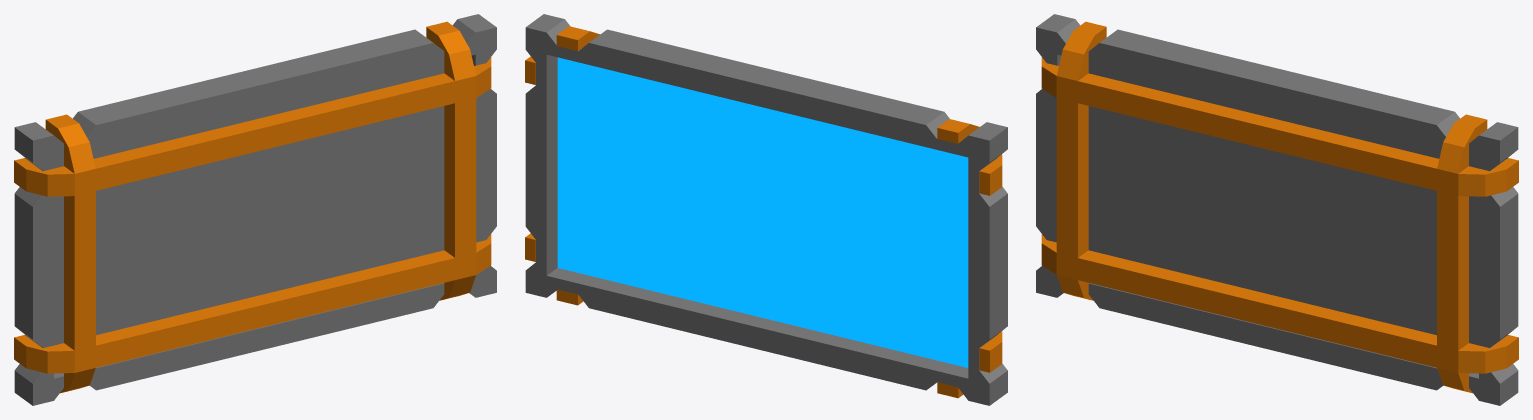
The model's file is menuObjShort.glb.
3 renders of one model, left to right at view 1: azimuth 30°, elevation 25°; view 2: azimuth 150°, elevation 25°; view 3: azimuth 330°, elevation 25°, orthographic.
Parts seen in each view (by area): view 1: Frame, Backplate; view 2: Screen, Frame, Backplate; view 3: Frame, Backplate.
Part boxes in pixels (x1,y1,x2,y2): Frame: [14, 14, 496, 405]; Backplate: [14, 21, 491, 393]; Screen: [557, 57, 968, 367]; Frame: [525, 14, 1007, 405]; Backplate: [525, 26, 1002, 398]; Frame: [1036, 14, 1518, 405]; Backplate: [1041, 21, 1518, 393].
Size of what is drawn, in the model's own units: 4.4 by 2.4 by 0.4744.
